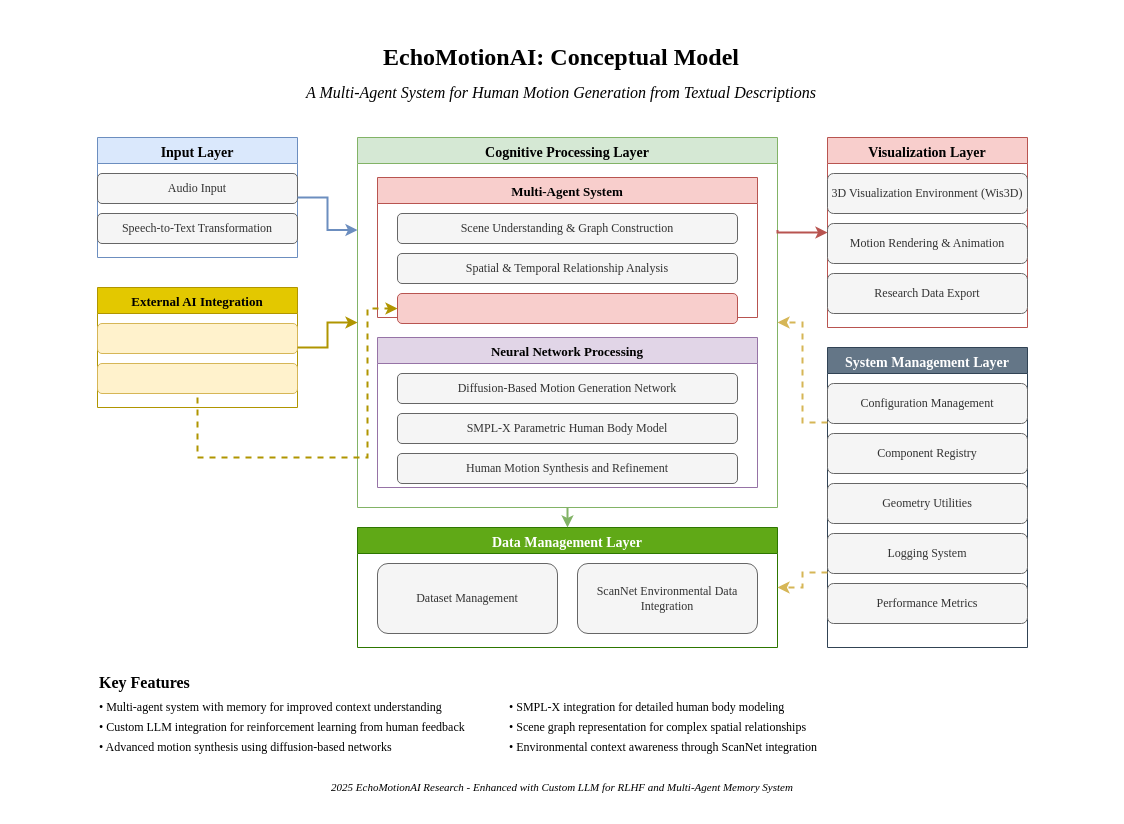
The diagram is 1124 pixels wide and 824 high, and some of its shapes have lost their labels. The shapes that lost their labels are listed below. From the top down, each one's centre as x and y in pixels, then its label:
the point at 567,308: Multi-Agent ChatGPT System with Memory
the point at 197,338: Custom LLM for RLHF
the point at 197,378: Agent Memory System
